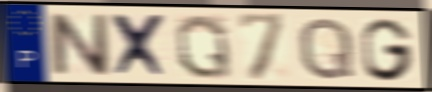7: (236, 10, 288, 84)
G: (359, 16, 416, 83)
N: (45, 10, 114, 77)
Q: (173, 12, 234, 81), (297, 15, 357, 83)
X: (109, 11, 172, 80)
